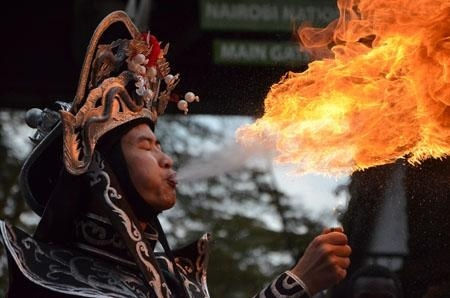fire: (236, 0, 449, 179)
